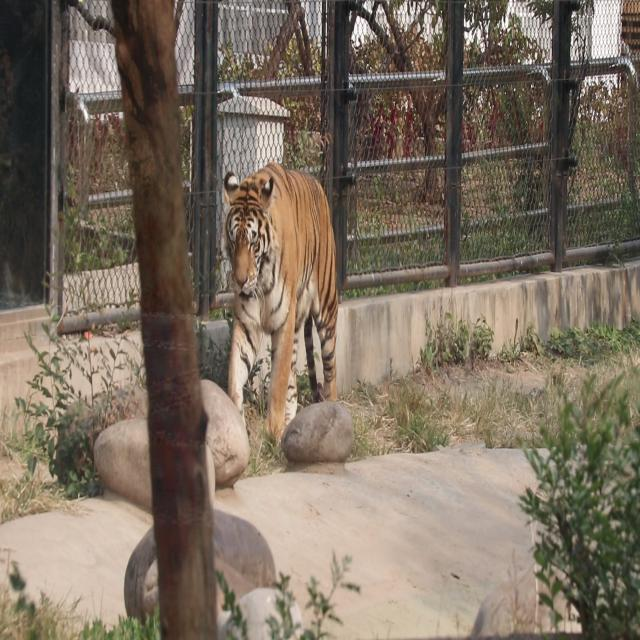Tiger: (211, 142, 356, 462)
